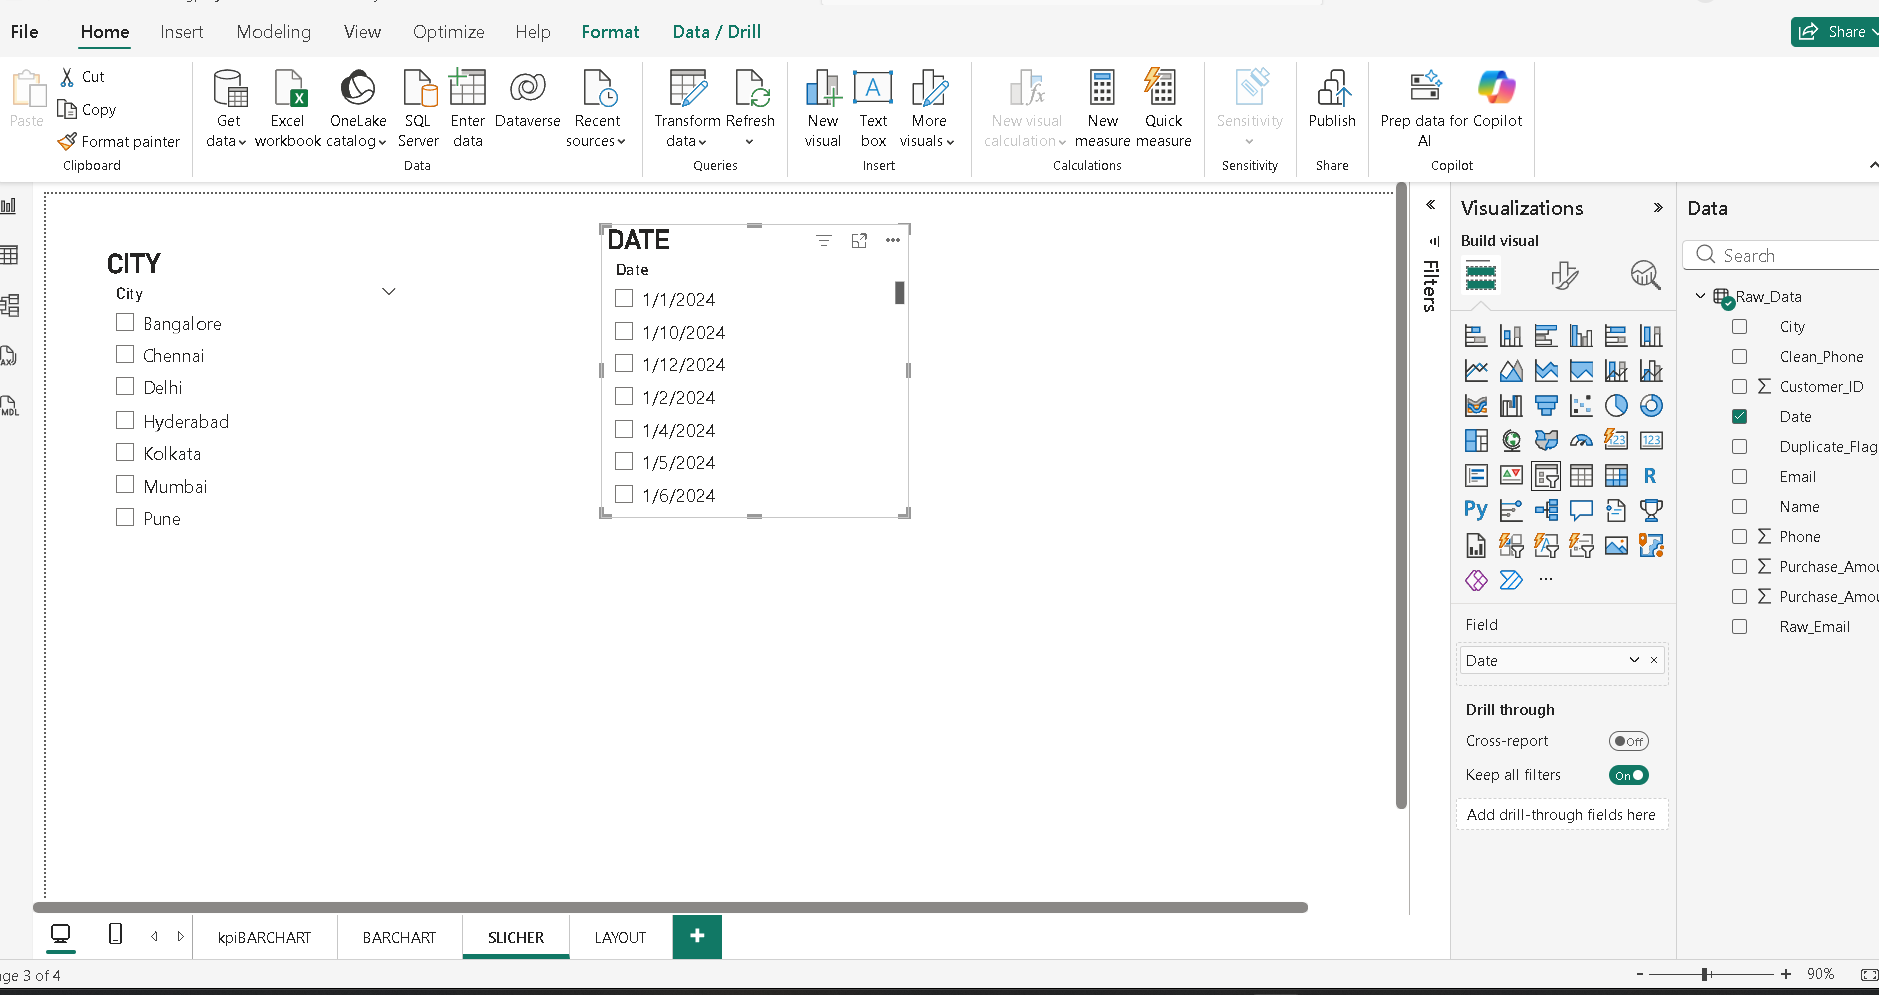

The page's visual inventory and layout, read from the dashboard file:
{"tool":"powerbi","page":{"name":"SLICHER","canvas":[1280,720],"ordinal":2},"visuals":[{"type":"slicer","title":"CITY","fields":{"Values":["Raw_Data.City"]},"box":[48.9,47.8,274.4,261.1],"z":0},{"type":"slicer","title":"DATE","fields":{"Values":["Raw_Data.Date"]},"box":[493.3,26.7,274.4,261.1],"z":1}]}

Visuals, with their boxes on the page's 1280x720 design canvas (x1, y1, x2, y2). These are canvas units, not pixel positions in the 1879x995 screenshot, which may show the page scaled, cropped or inside an application window:
"CITY" slicer: <bbox>49, 48, 323, 309</bbox>
"DATE" slicer: <bbox>493, 27, 768, 288</bbox>
